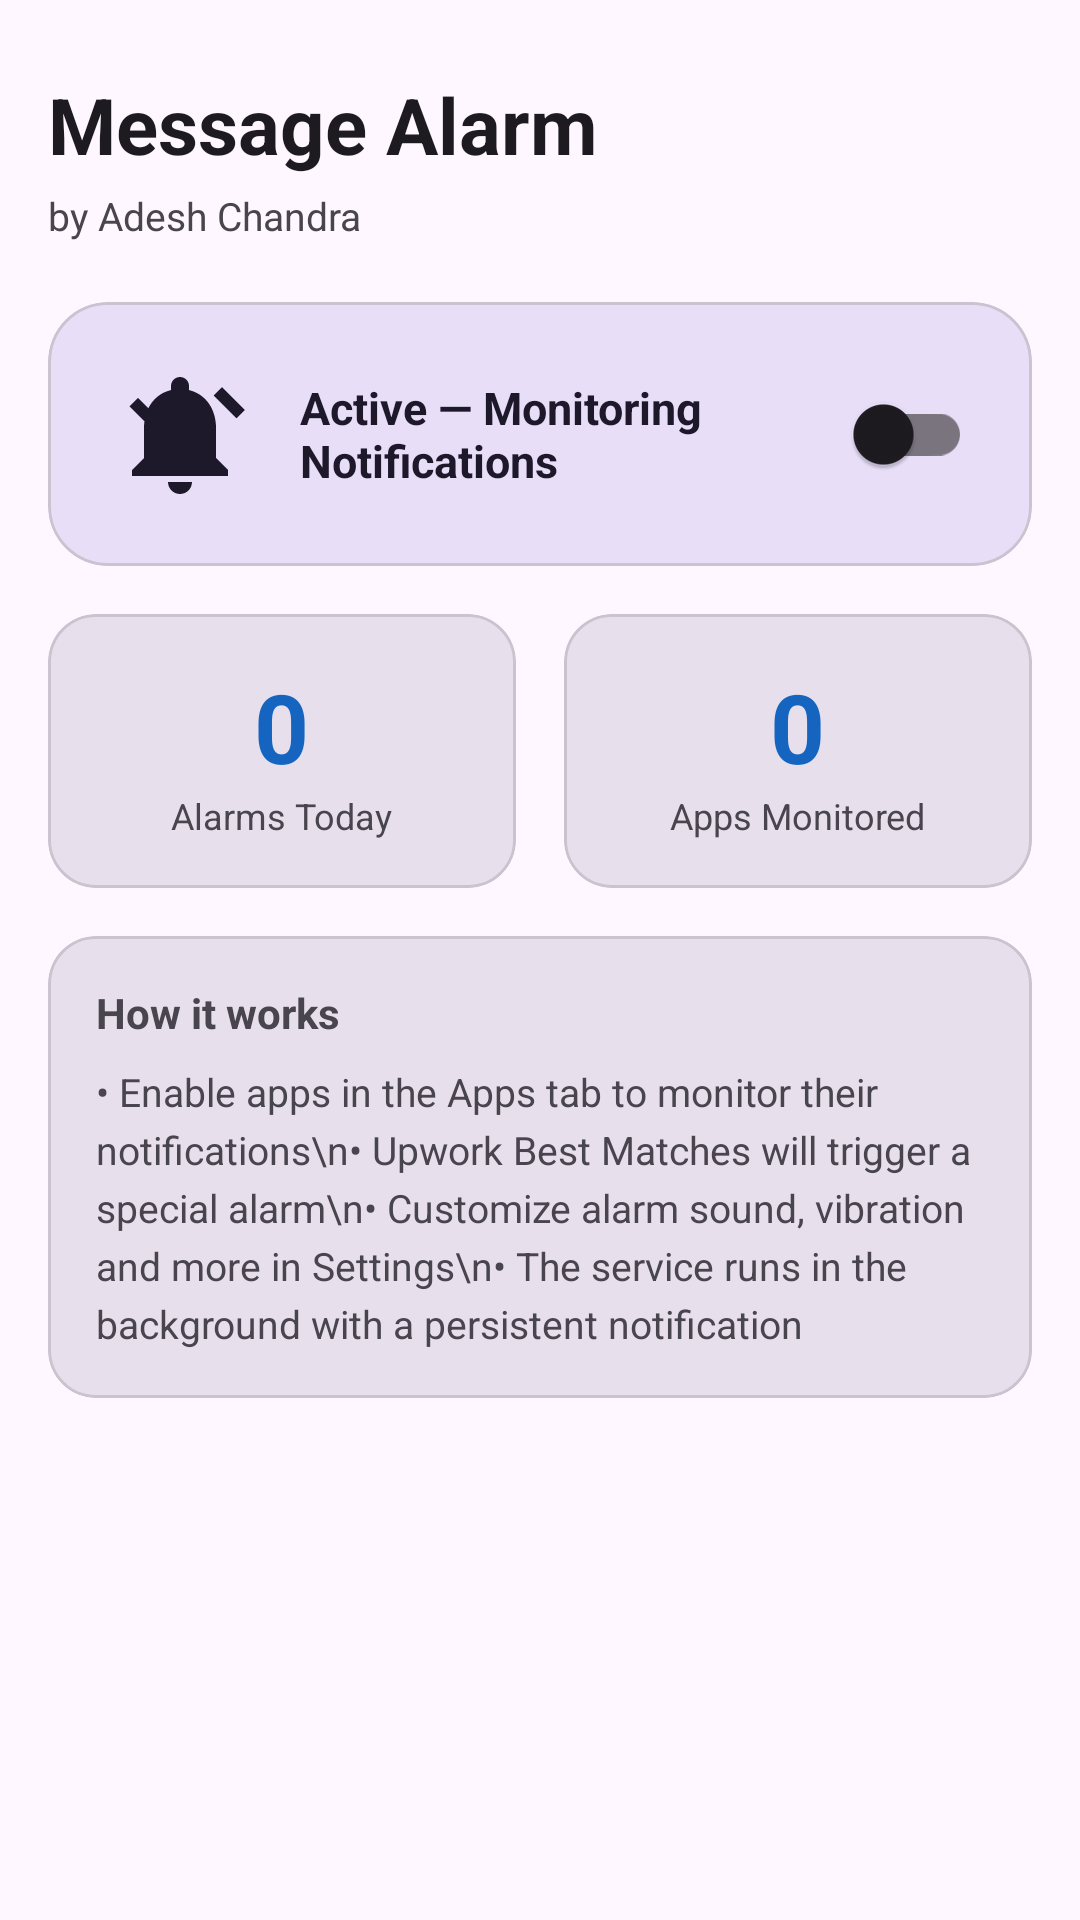

Point at icon controls on the screen. Image size 1080 x 1920, points as point (x, y).
bell ring: point (187, 435)
